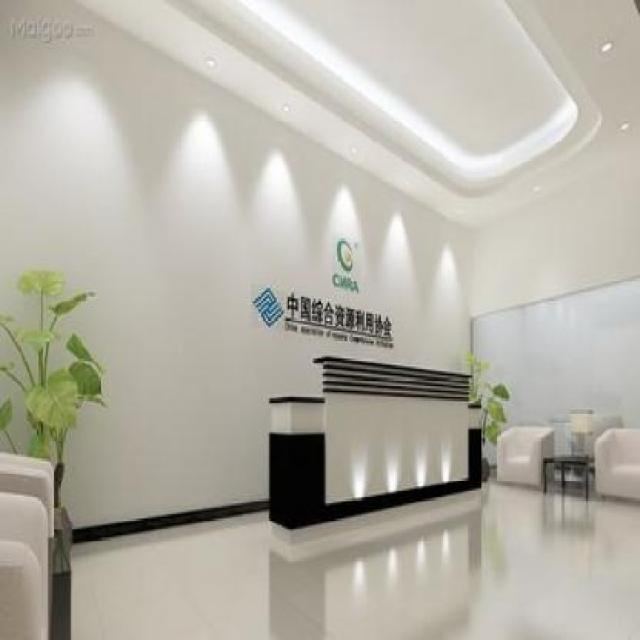frontdesk: (265, 337, 483, 536)
